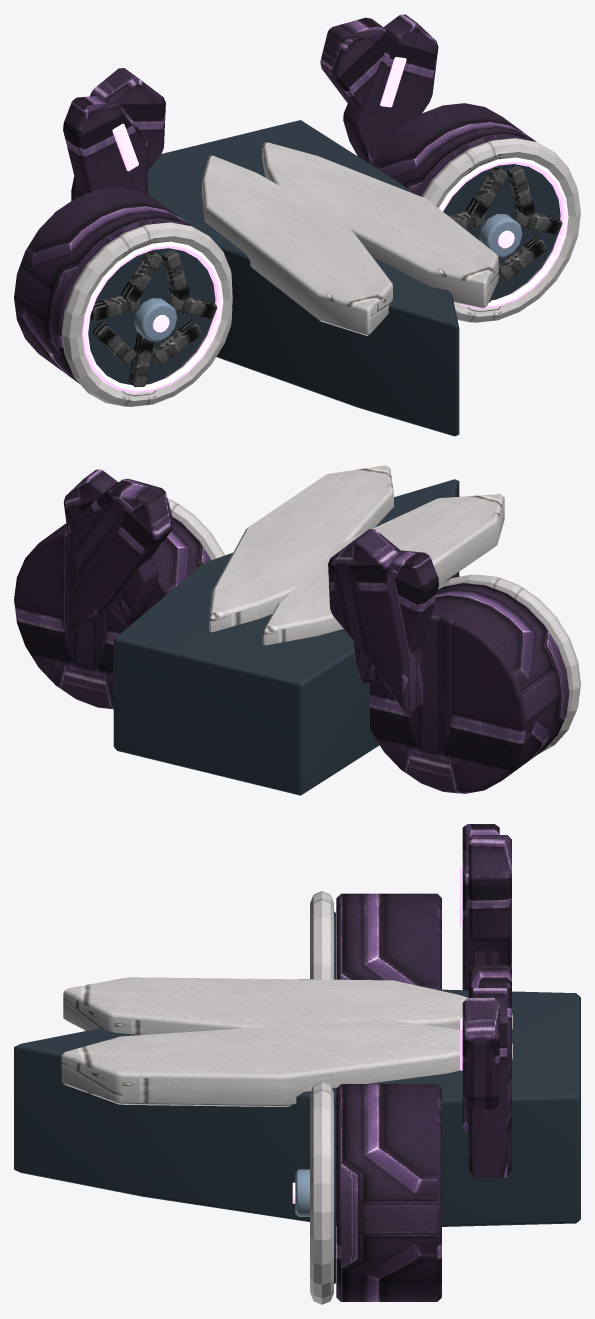
Rendered from flyer.glb.
The picture shows the model from 3 angles, top to bottom: view 1: azimuth 30°, elevation 25°; view 2: azimuth 150°, elevation 25°; view 3: azimuth 270°, elevation 25°; orthographic projection. The views are drawn at different scales.
Parts seen in each view (by area): view 1: Split arrow nose, Pointed interceptor chassis, Swept dorsal vane, Turbine impeller blade, Turbine running light, Turbine hub, Fin light strip; view 2: Swept dorsal vane, Pointed interceptor chassis, Split arrow nose; view 3: Pointed interceptor chassis, Split arrow nose, Swept dorsal vane, Turbine hub.
Boxes of the visible parts, bbox=[...] form: Split arrow nose: bbox=[62, 138, 580, 406]; Pointed interceptor chassis: bbox=[88, 120, 560, 436]; Swept dorsal vane: bbox=[14, 14, 536, 383]; Turbine impeller blade: bbox=[90, 165, 562, 387]; Turbine running light: bbox=[82, 157, 568, 393]; Turbine hub: bbox=[134, 214, 522, 341]; Fin light strip: bbox=[112, 57, 406, 171]; Swept dorsal vane: bbox=[14, 469, 569, 793]; Pointed interceptor chassis: bbox=[113, 479, 459, 795]; Split arrow nose: bbox=[168, 465, 580, 753]; Pointed interceptor chassis: bbox=[14, 911, 580, 1284]; Split arrow nose: bbox=[61, 891, 513, 1304]; Swept dorsal vane: bbox=[336, 824, 511, 1301]; Turbine hub: bbox=[295, 979, 309, 1216].
Size of the model in its own units: 1.47 by 0.7152 by 1.23.
Materials: 7 (3 with a texture image).
